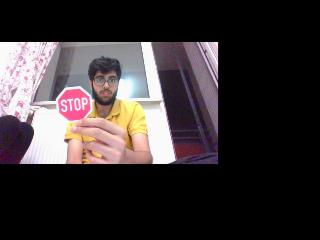stop: (56, 88, 92, 120)
